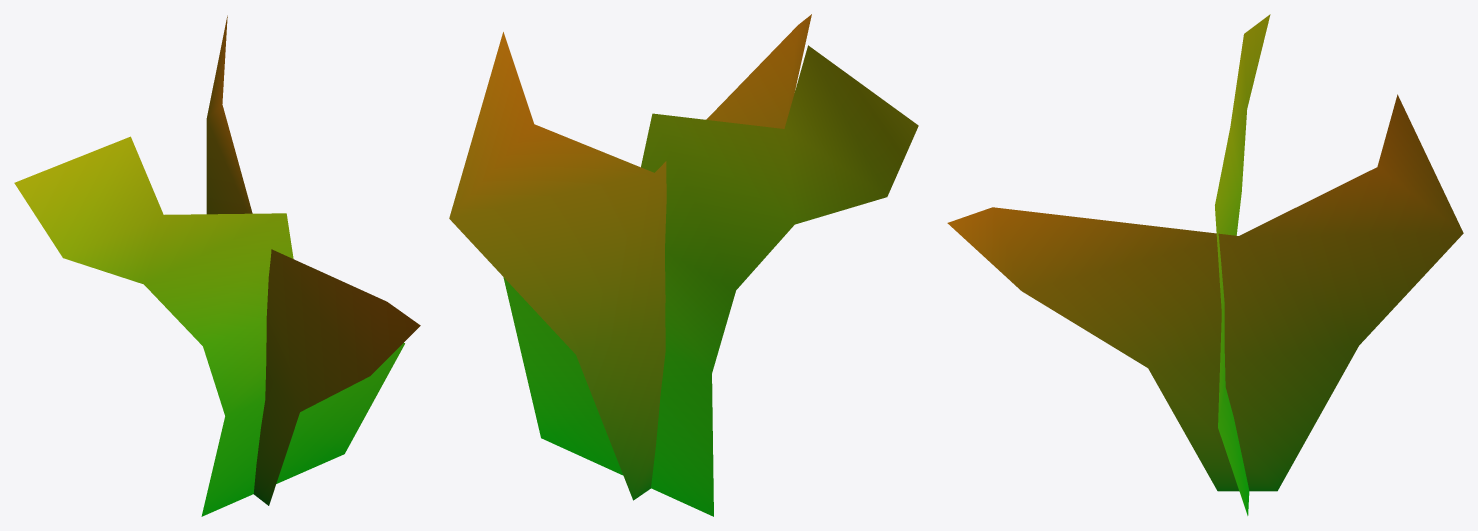
File: Var11Hi24.fbx
The picture shows the model from 3 angles, left to right: view 1: azimuth 30°, elevation 25°; view 2: azimuth 150°, elevation 25°; view 3: azimuth 270°, elevation 25°; orthographic projection. The views are drawn at different scales.
Parts seen in each view (by area): view 1: bend1; view 2: bend1; view 3: bend1.
Part boxes in pixels (<box>): bend1: <box>14,15,420,516</box>; bend1: <box>449,14,918,516</box>; bend1: <box>947,14,1463,515</box>.
Size of the model in its own units: 1.35 by 1.5 by 1.63.
